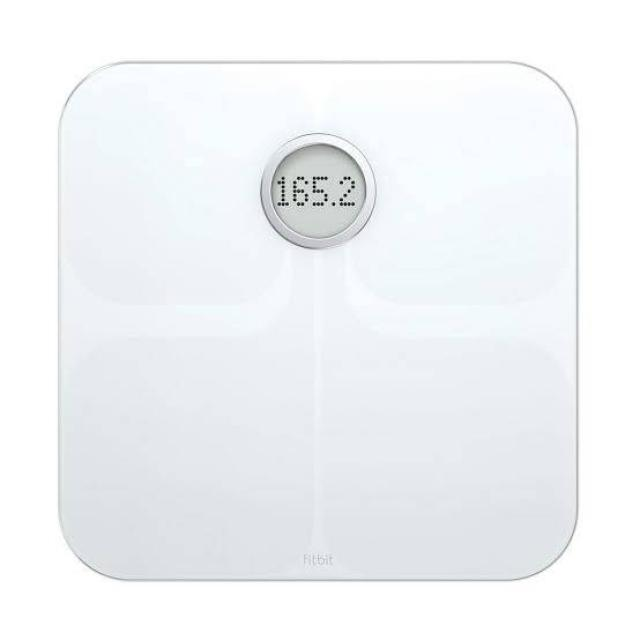ws: (0, 46, 637, 639)
